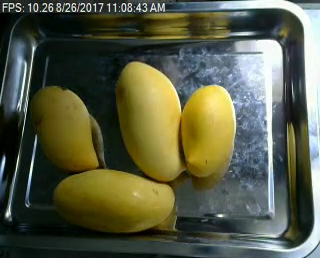Mango: (112, 61, 191, 180), (41, 168, 180, 233), (30, 84, 107, 169), (179, 81, 237, 184)
